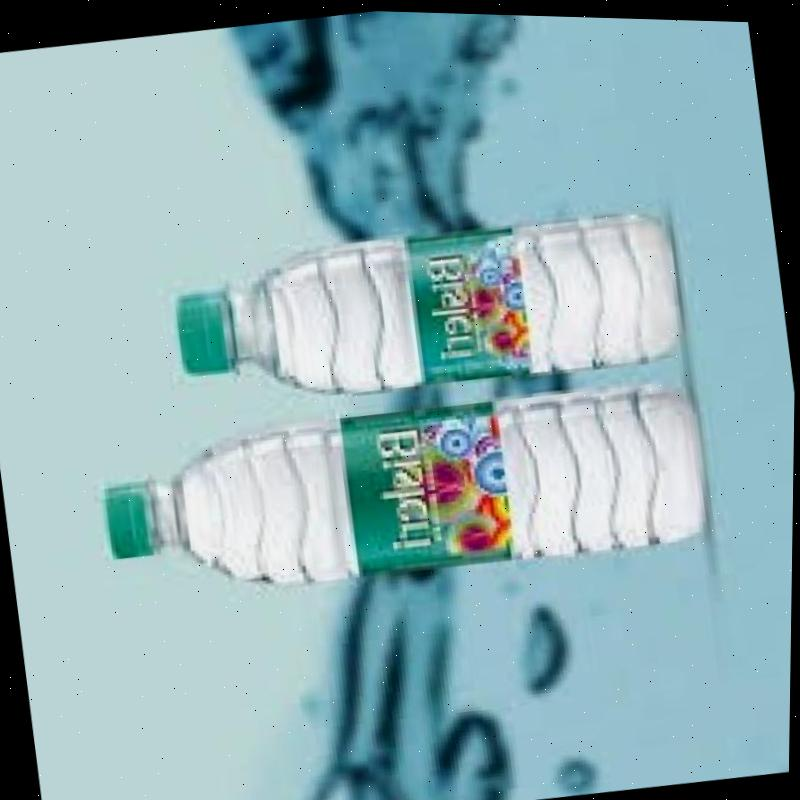botella: (95, 361, 721, 622), (172, 191, 692, 427)
